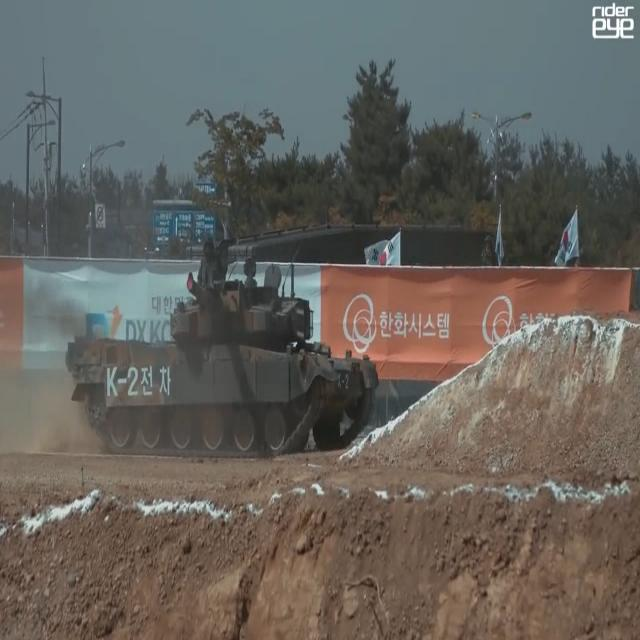korea tank: (65, 233, 379, 462)
